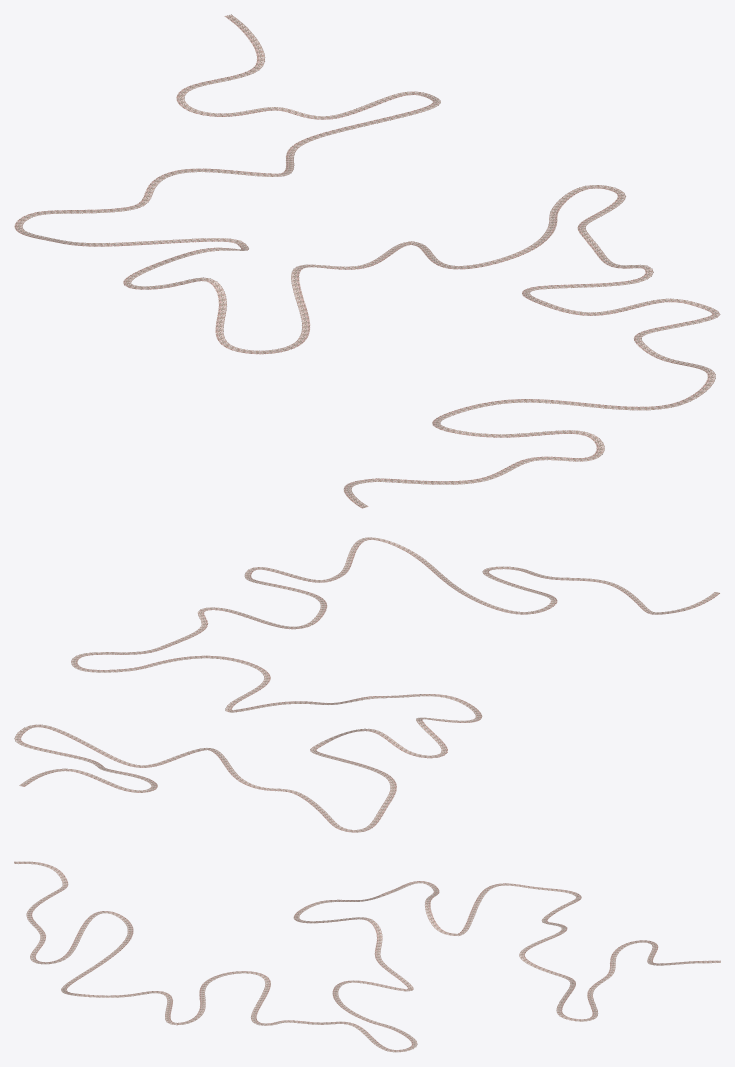
File: TRACKIV_FBX.fbx
The picture shows the model from 3 angles, top to bottom: view 1: azimuth 30°, elevation 25°; view 2: azimuth 150°, elevation 25°; view 3: azimuth 270°, elevation 25°; orthographic projection. The views are drawn at different scales.
Visible parts, largest first — view 1: TrackIV:loftedSurface1; view 2: TrackIV:loftedSurface1; view 3: TrackIV:loftedSurface1.
Part boxes in pixels (<box>): TrackIV:loftedSurface1: <box>14,14,720,508</box>; TrackIV:loftedSurface1: <box>14,537,719,832</box>; TrackIV:loftedSurface1: <box>14,861,720,1052</box>.
Size of the model in its own units: 534 by 870 by 55.51.
1 material, 1 textured.
